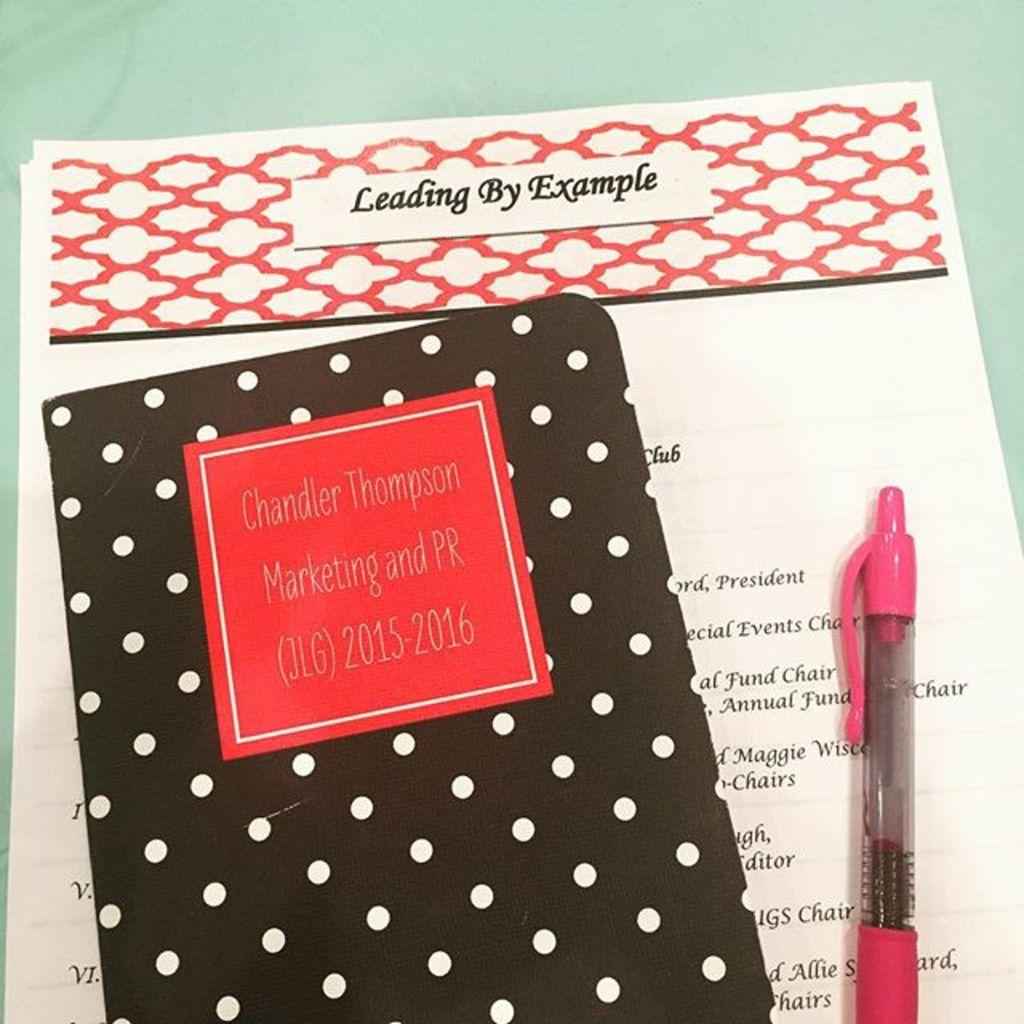pen: (830, 477, 928, 1022)
